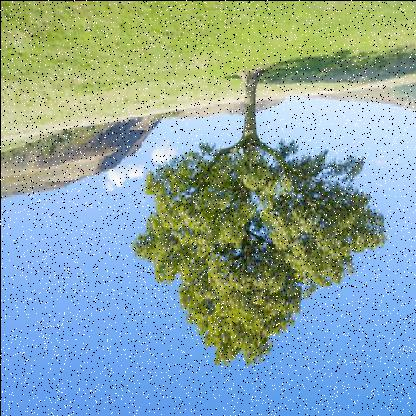Tree: (132, 67, 380, 371)
